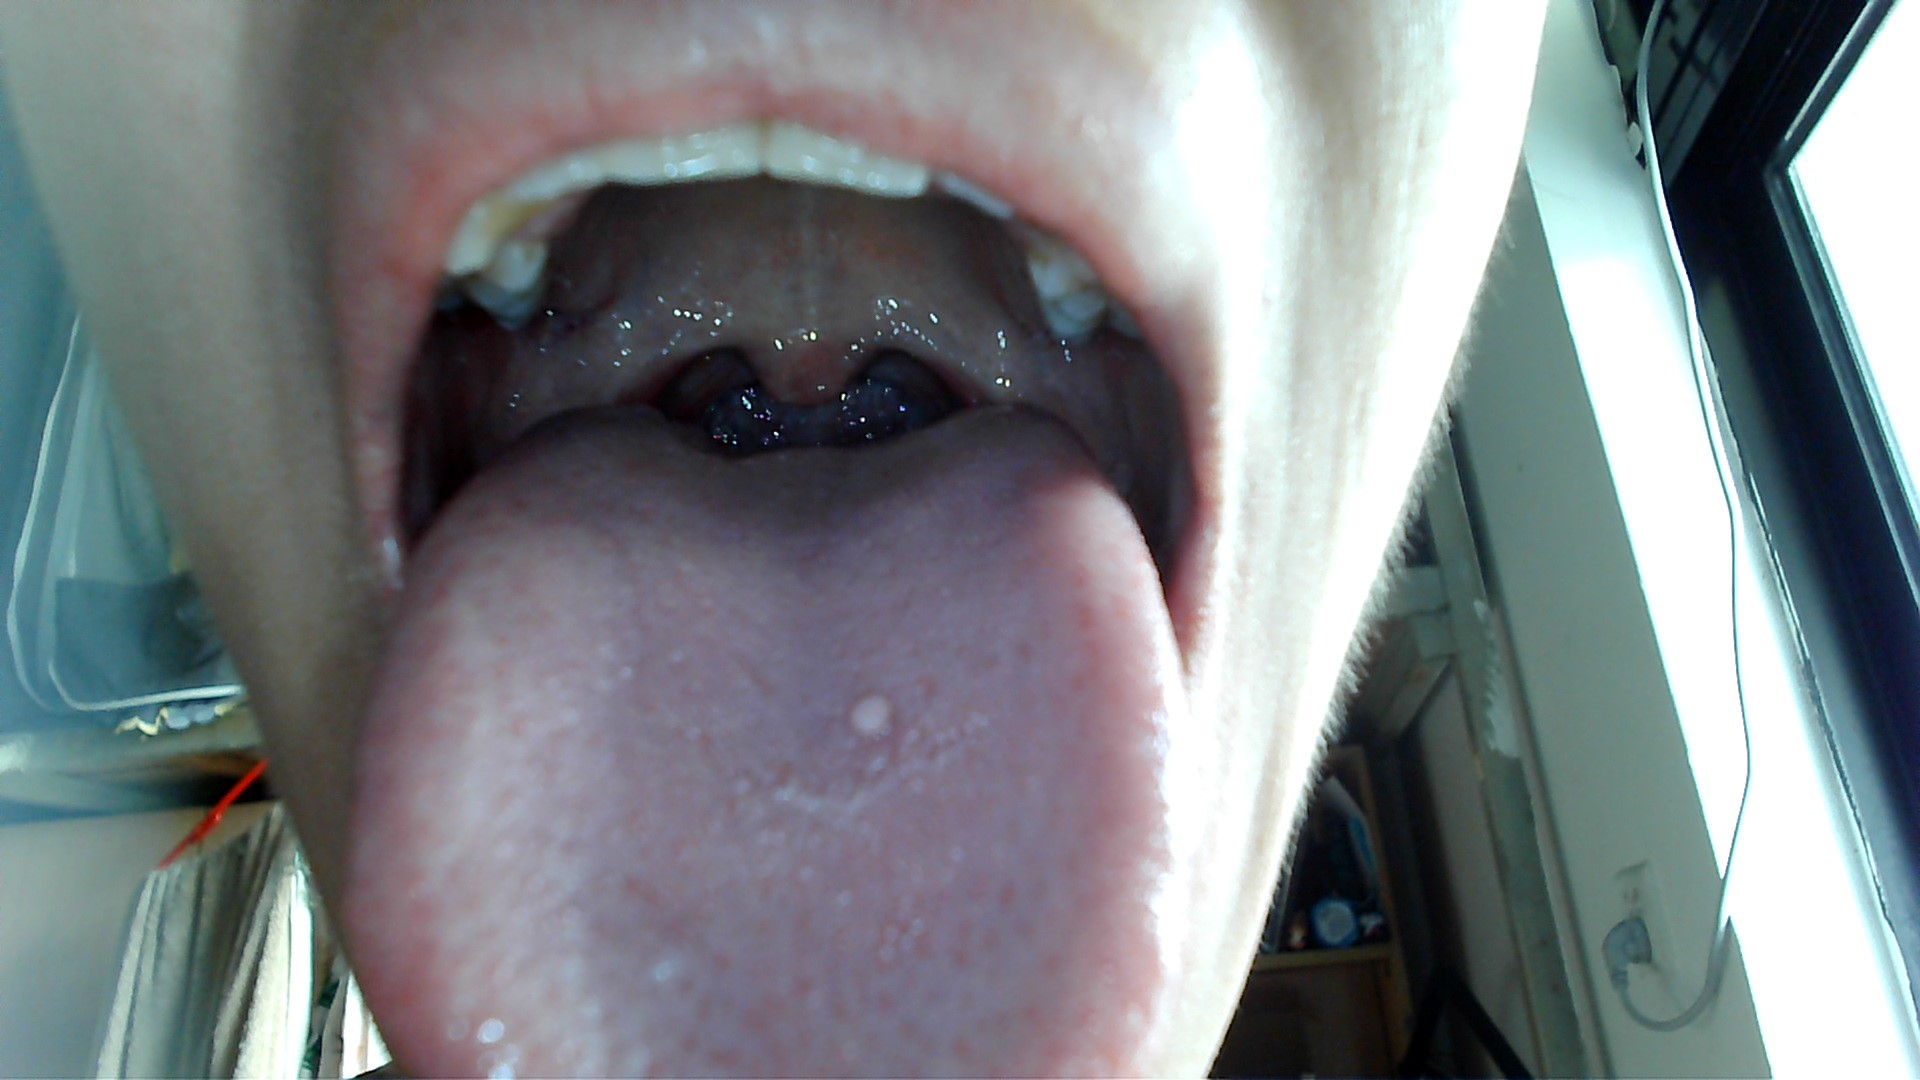throat: (910, 305, 1022, 404), (582, 309, 686, 411)
